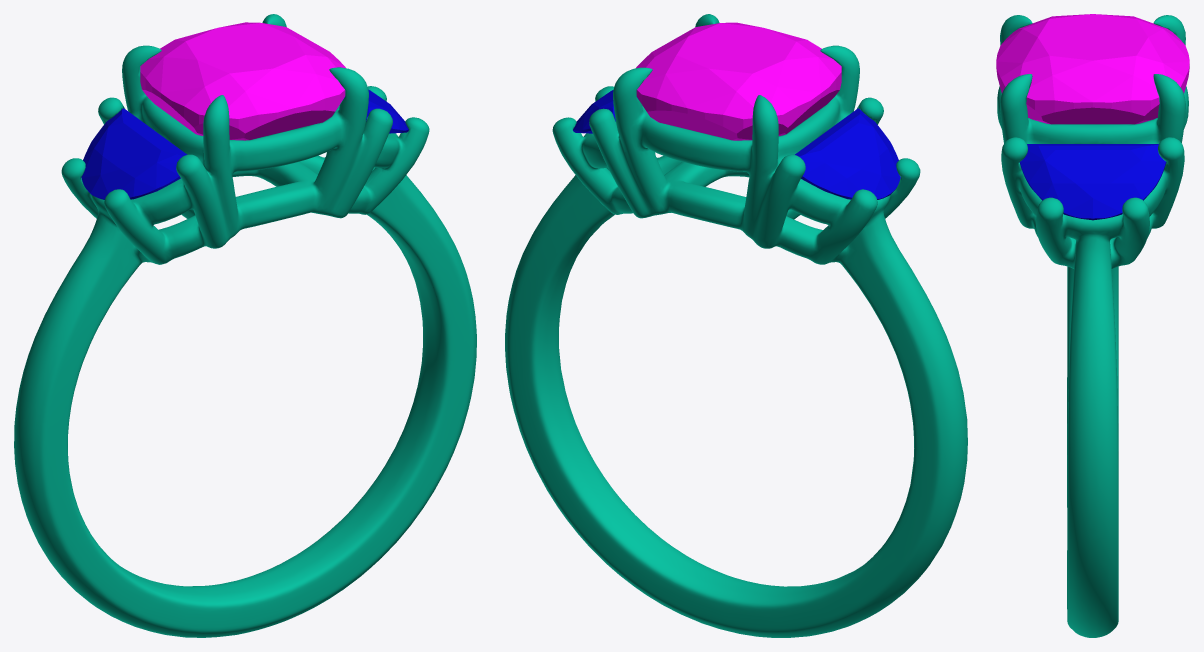
The model's file is BE1D354_CU_200ct_RENDER.glb.
3 renders of one model, left to right at view 1: azimuth 30°, elevation 25°; view 2: azimuth 150°, elevation 25°; view 3: azimuth 270°, elevation 25°, orthographic.
Visible parts, largest first — view 1: Metal 01, CS_Diamond_Cushion, Diamond_Marquise_side.001, Diamond_Marquise_side; view 2: Metal 01, CS_Diamond_Cushion, Diamond_Marquise_side.001, Diamond_Marquise_side; view 3: Metal 01, CS_Diamond_Cushion, Diamond_Marquise_side.
Part boxes in pixels (left/top/right/bottom): Metal 01: left=14, top=14, right=476, bottom=637; CS_Diamond_Cushion: left=140, top=22, right=345, bottom=140; Diamond_Marquise_side.001: left=81, top=108, right=187, bottom=199; Diamond_Marquise_side: left=343, top=89, right=408, bottom=133; Metal 01: left=505, top=14, right=967, bottom=637; CS_Diamond_Cushion: left=636, top=22, right=841, bottom=140; Diamond_Marquise_side.001: left=795, top=108, right=900, bottom=199; Diamond_Marquise_side: left=573, top=90, right=638, bottom=133; Metal 01: left=997, top=15, right=1188, bottom=637; CS_Diamond_Cushion: left=996, top=14, right=1189, bottom=124; Diamond_Marquise_side: left=1019, top=144, right=1166, bottom=220.
Bounding box in the file's own units: 20.17 × 24.63 × 7.5.
